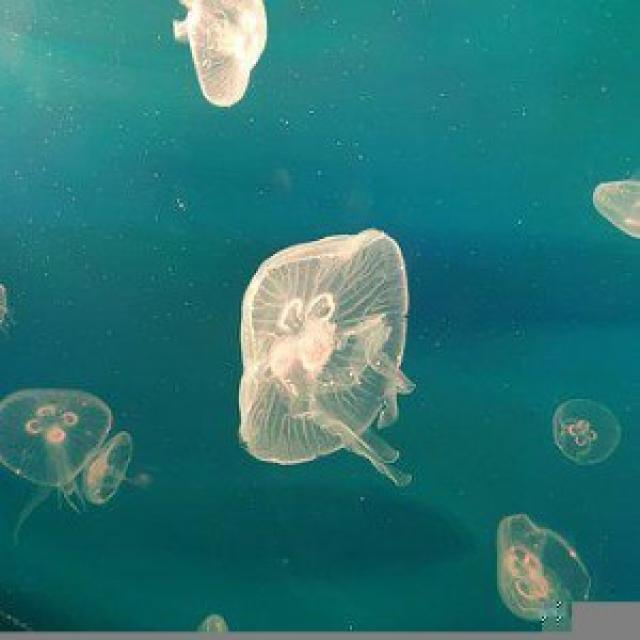Jellyfish: (216, 220, 439, 492), (484, 503, 640, 639), (0, 386, 119, 514), (158, 0, 275, 113), (545, 392, 630, 477), (585, 178, 640, 256), (92, 431, 143, 507)
